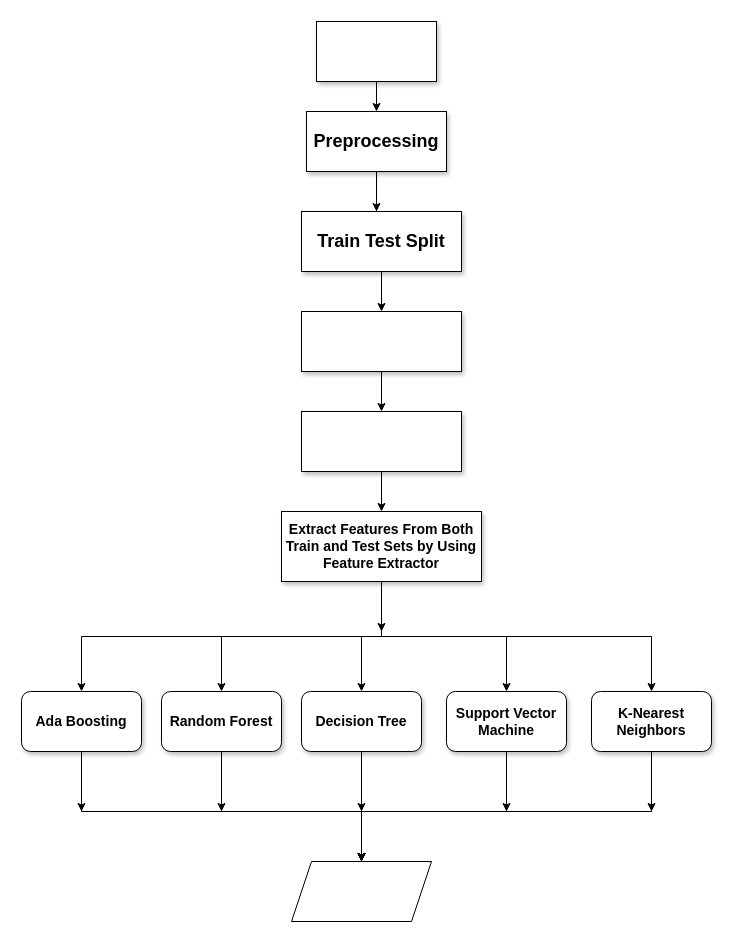
The diagram is 735 pixels wide and 939 high, and some of its shapes have lost their labels. Here are the shapes that lost their labels. From the top down, the centre of each, then its label:
pixel 377 52: Dataset
pixel 382 342: Tokenization and Pad Sequencing
pixel 382 442: Train Feature Extractor With Train Set
pixel 361 891: Performance Analysis
